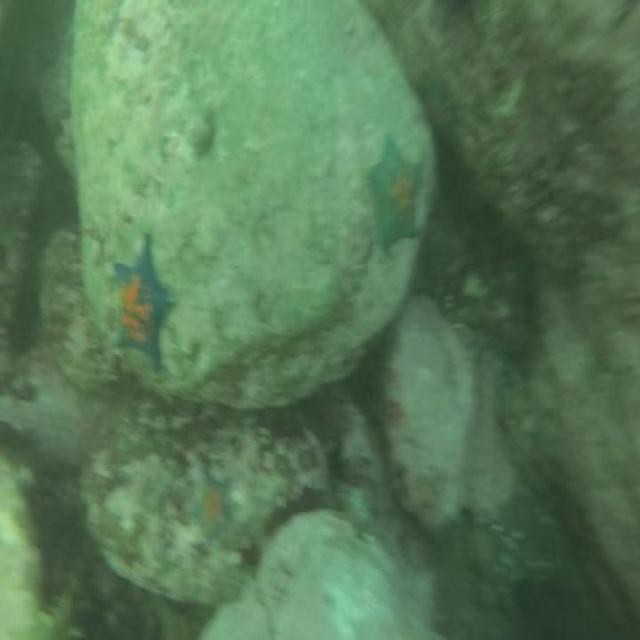holothurian: (28, 583, 86, 640)
starfish: (110, 234, 178, 374), (364, 130, 430, 254), (183, 466, 238, 548)
